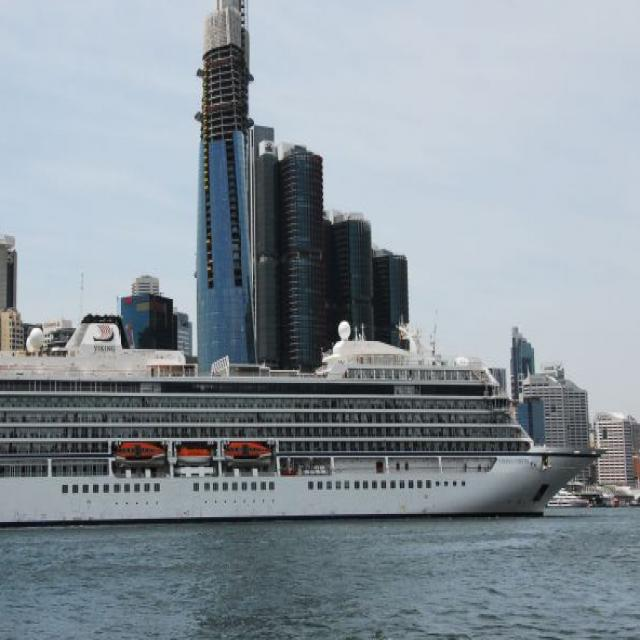cruises: (1, 313, 610, 529)
